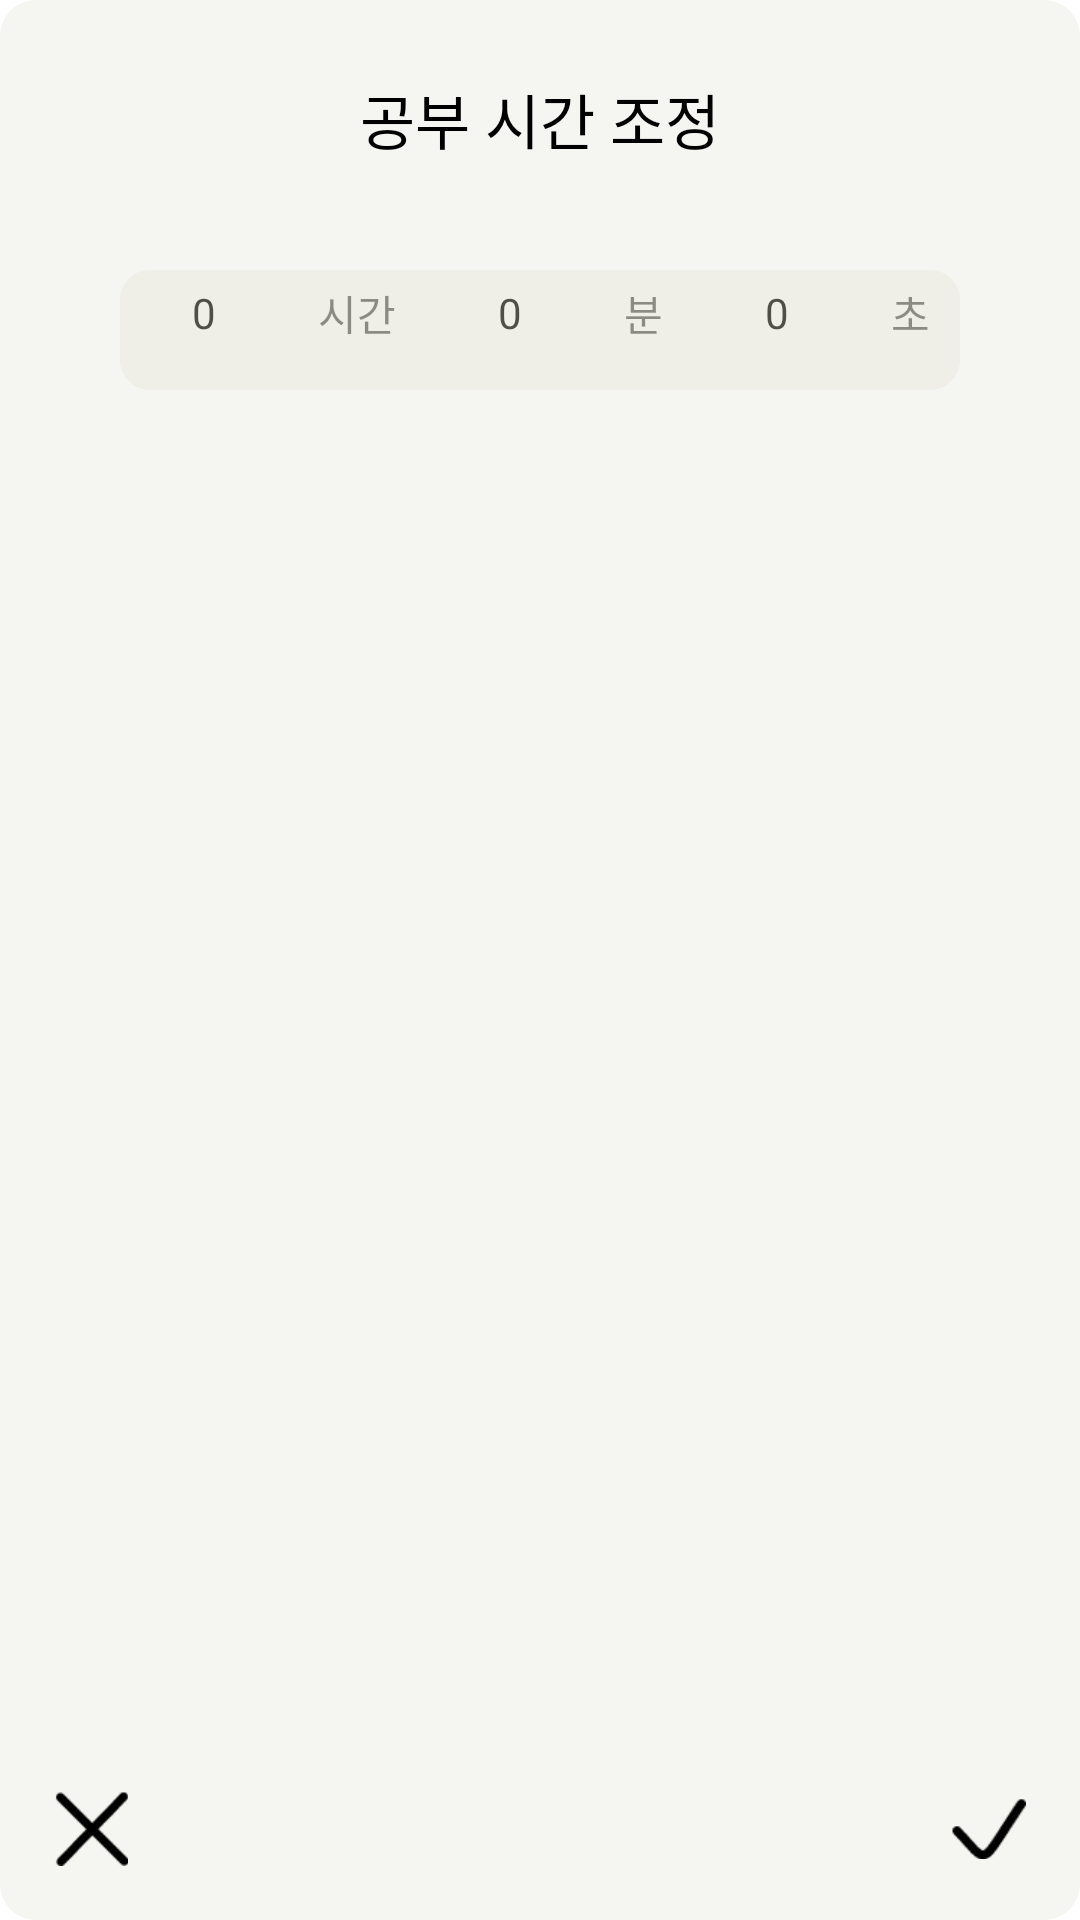

Screen size 1080 x 1920. Icon name, then its center in pixels as (x=x, y=y):
check: (x=989, y=1829)
